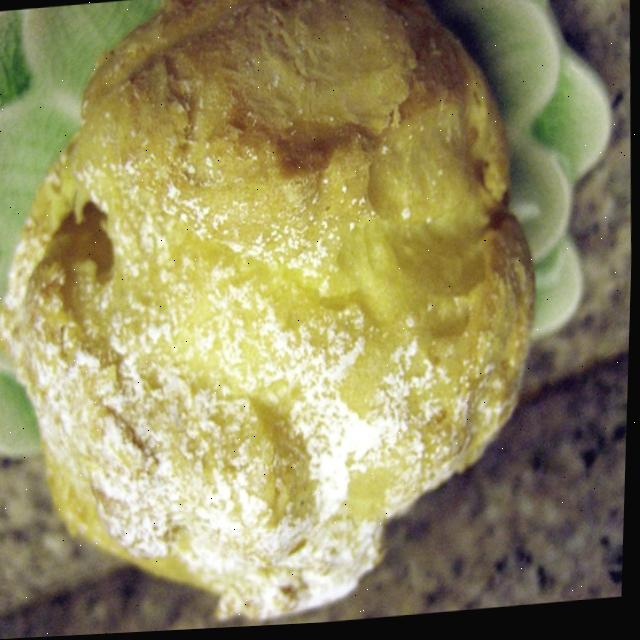炸货点心: (0, 0, 561, 640)
蛋糕甜品: (0, 0, 561, 640)
